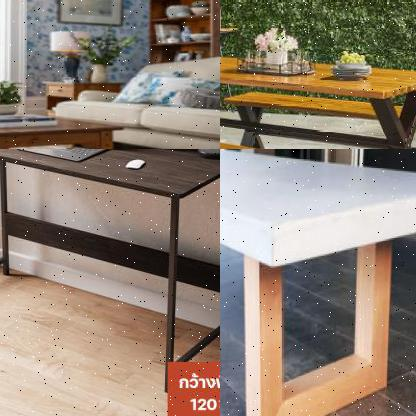table: (0, 149, 219, 394), (220, 149, 415, 415), (220, 52, 415, 148), (0, 105, 129, 148), (220, 21, 246, 118)
